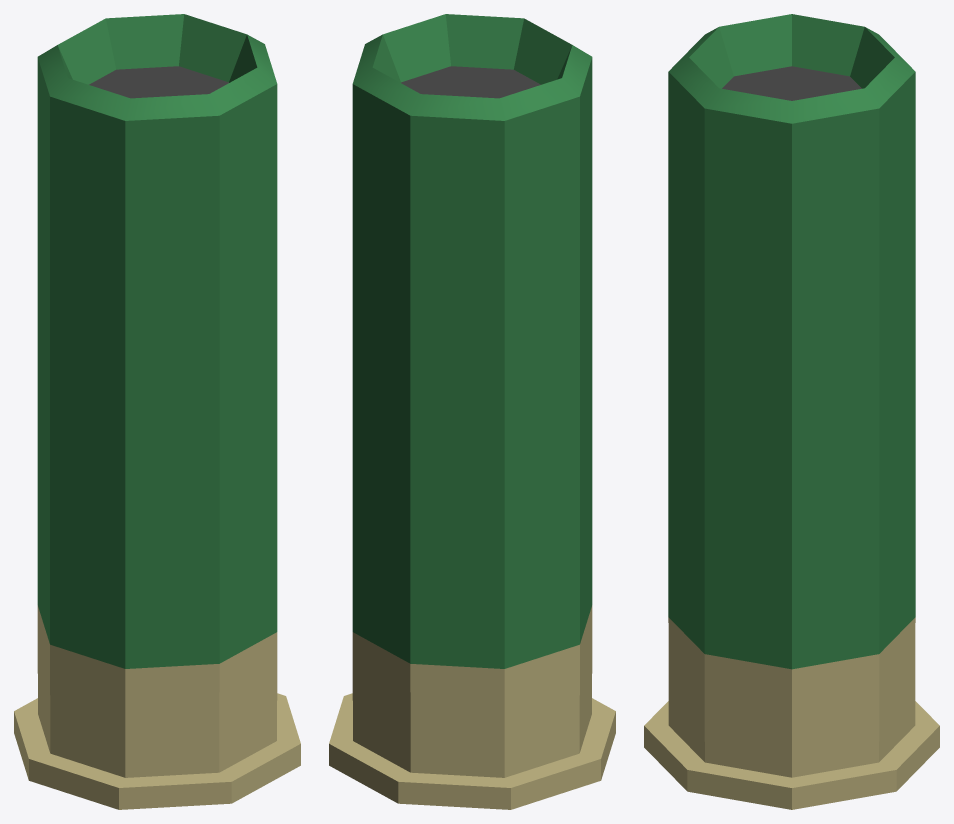
Rendered from CRT-SLG.fbx.
3 renders of one model, left to right at view 1: azimuth 30°, elevation 25°; view 2: azimuth 150°, elevation 25°; view 3: azimuth 270°, elevation 25°, orthographic.
Visible parts, largest first — view 1: Cylinder.030; view 2: Cylinder.030; view 3: Cylinder.030.
Part boxes in pixels (x1,y1,x2,y2): Cylinder.030: [14, 14, 300, 809]; Cylinder.030: [329, 14, 615, 809]; Cylinder.030: [644, 14, 939, 809].
Bounding box in the file's own units: 39.87 × 103 × 39.87.
